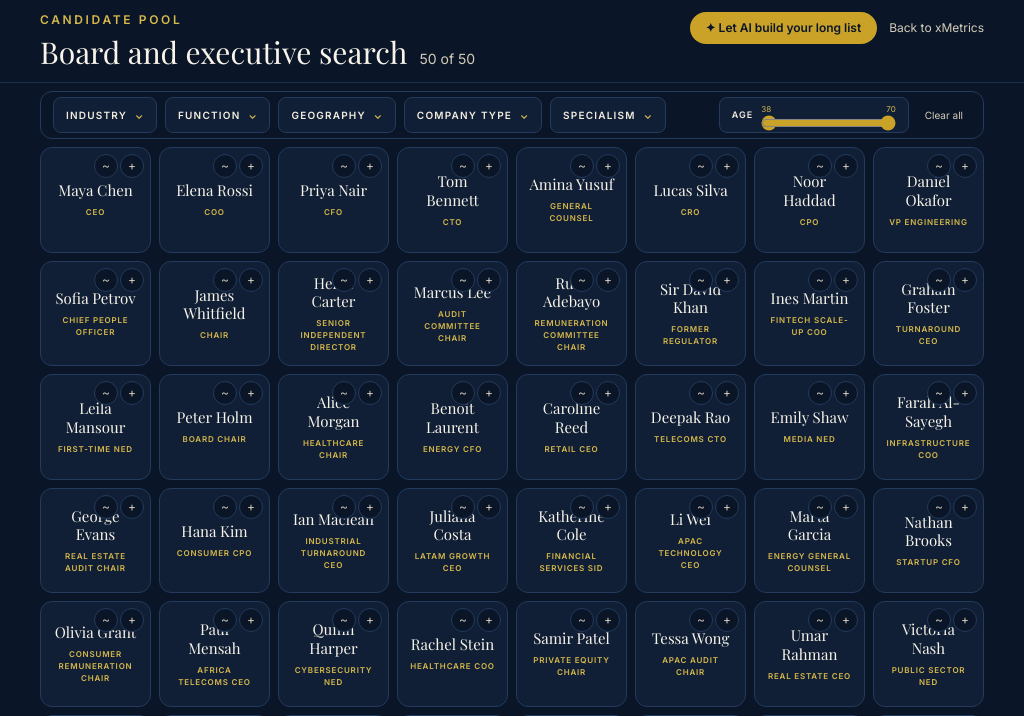
Test: CandidatePoolPage › adds a candidate to the long list and shows its selected state
Step 1. Click the button named "Add to long list" → click(132, 166), box [120,154,144,178]
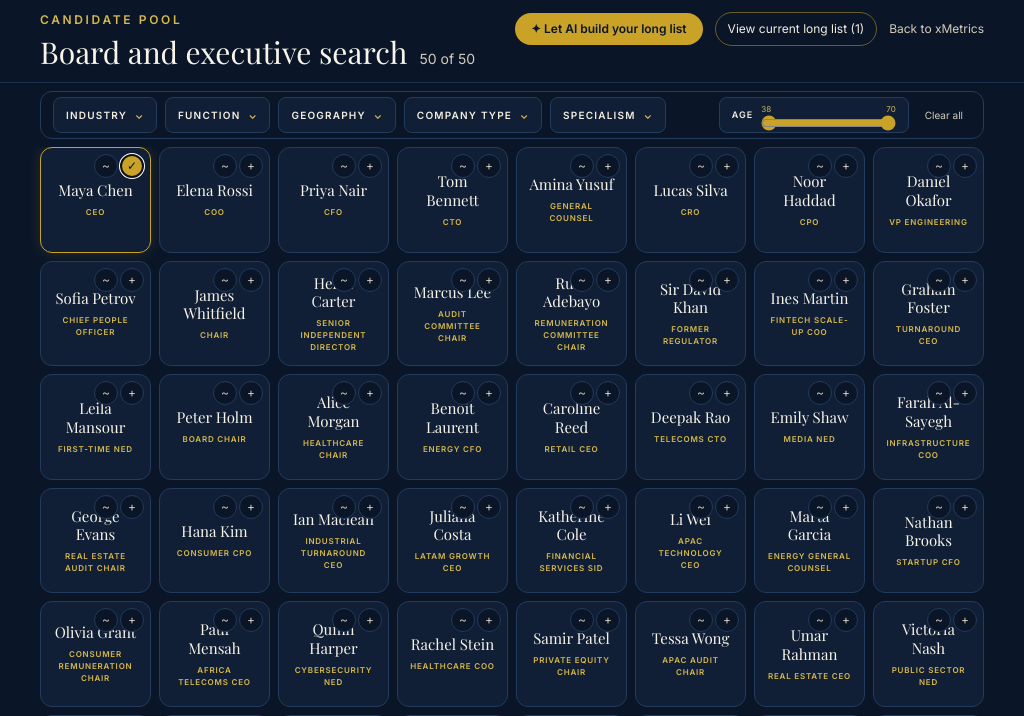
expect the button "View current long list (1)" is shown: met, box [715,12,877,46]
expect the button named "Add to long list" reads "✓": met, box [120,154,144,178]
